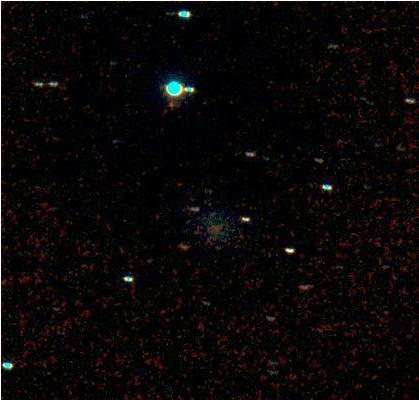star: (157, 89, 187, 119)
